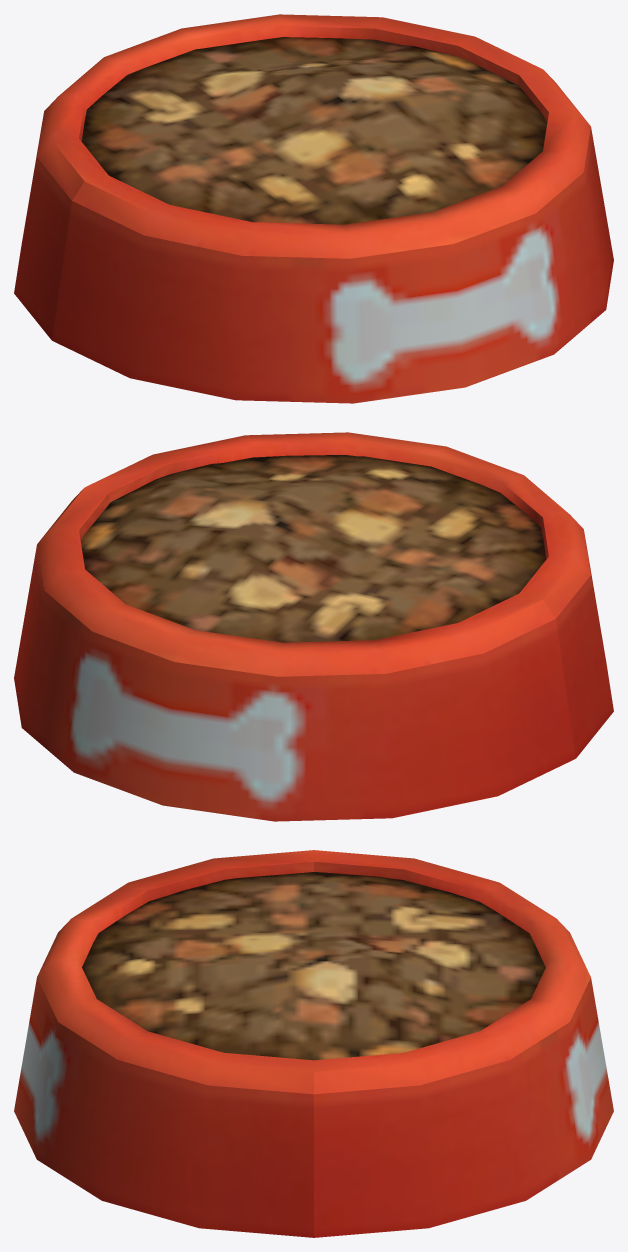
File: comederoMax.fbx
The picture shows the model from 3 angles, top to bottom: view 1: azimuth 30°, elevation 25°; view 2: azimuth 150°, elevation 25°; view 3: azimuth 270°, elevation 25°; orthographic projection.
Parts seen in each view (by area): view 1: s4studio_mesh_1; view 2: s4studio_mesh_1; view 3: s4studio_mesh_1.
Part boxes in pixels (bbox=[...]): s4studio_mesh_1: bbox=[14, 14, 613, 403]; s4studio_mesh_1: bbox=[14, 432, 613, 821]; s4studio_mesh_1: bbox=[14, 850, 613, 1237].
Bounding box in the file's own units: 30.07 × 9.35 × 30.07.
1 material, 1 textured.
